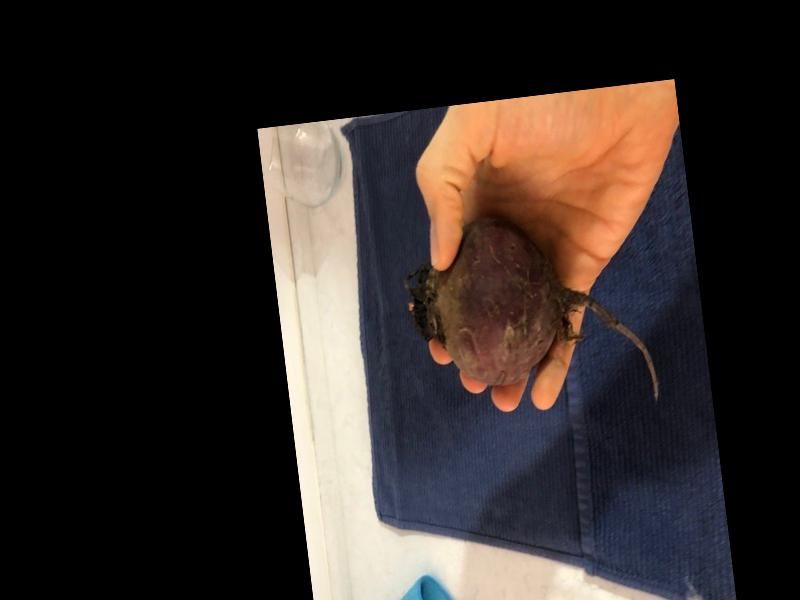Beet: (398, 197, 660, 431)
